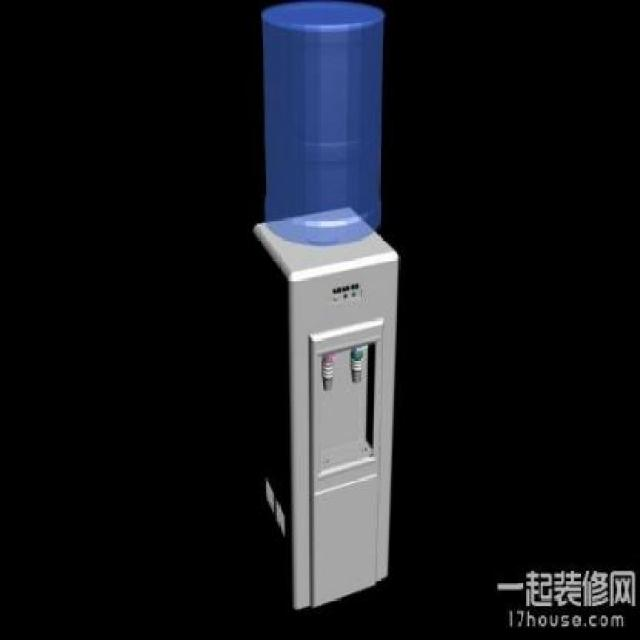cooler: (251, 5, 401, 620)
